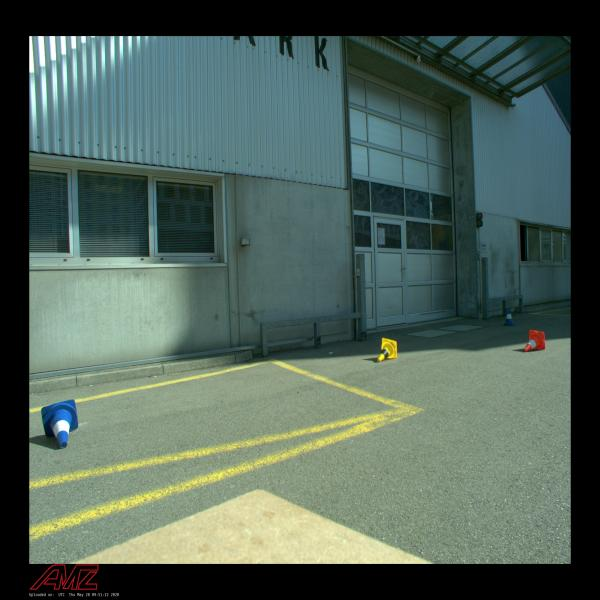blue_cone: (41, 399, 78, 449), (503, 309, 516, 326)
orange_cone: (524, 330, 546, 352)
yellow_cone: (377, 338, 397, 362)
